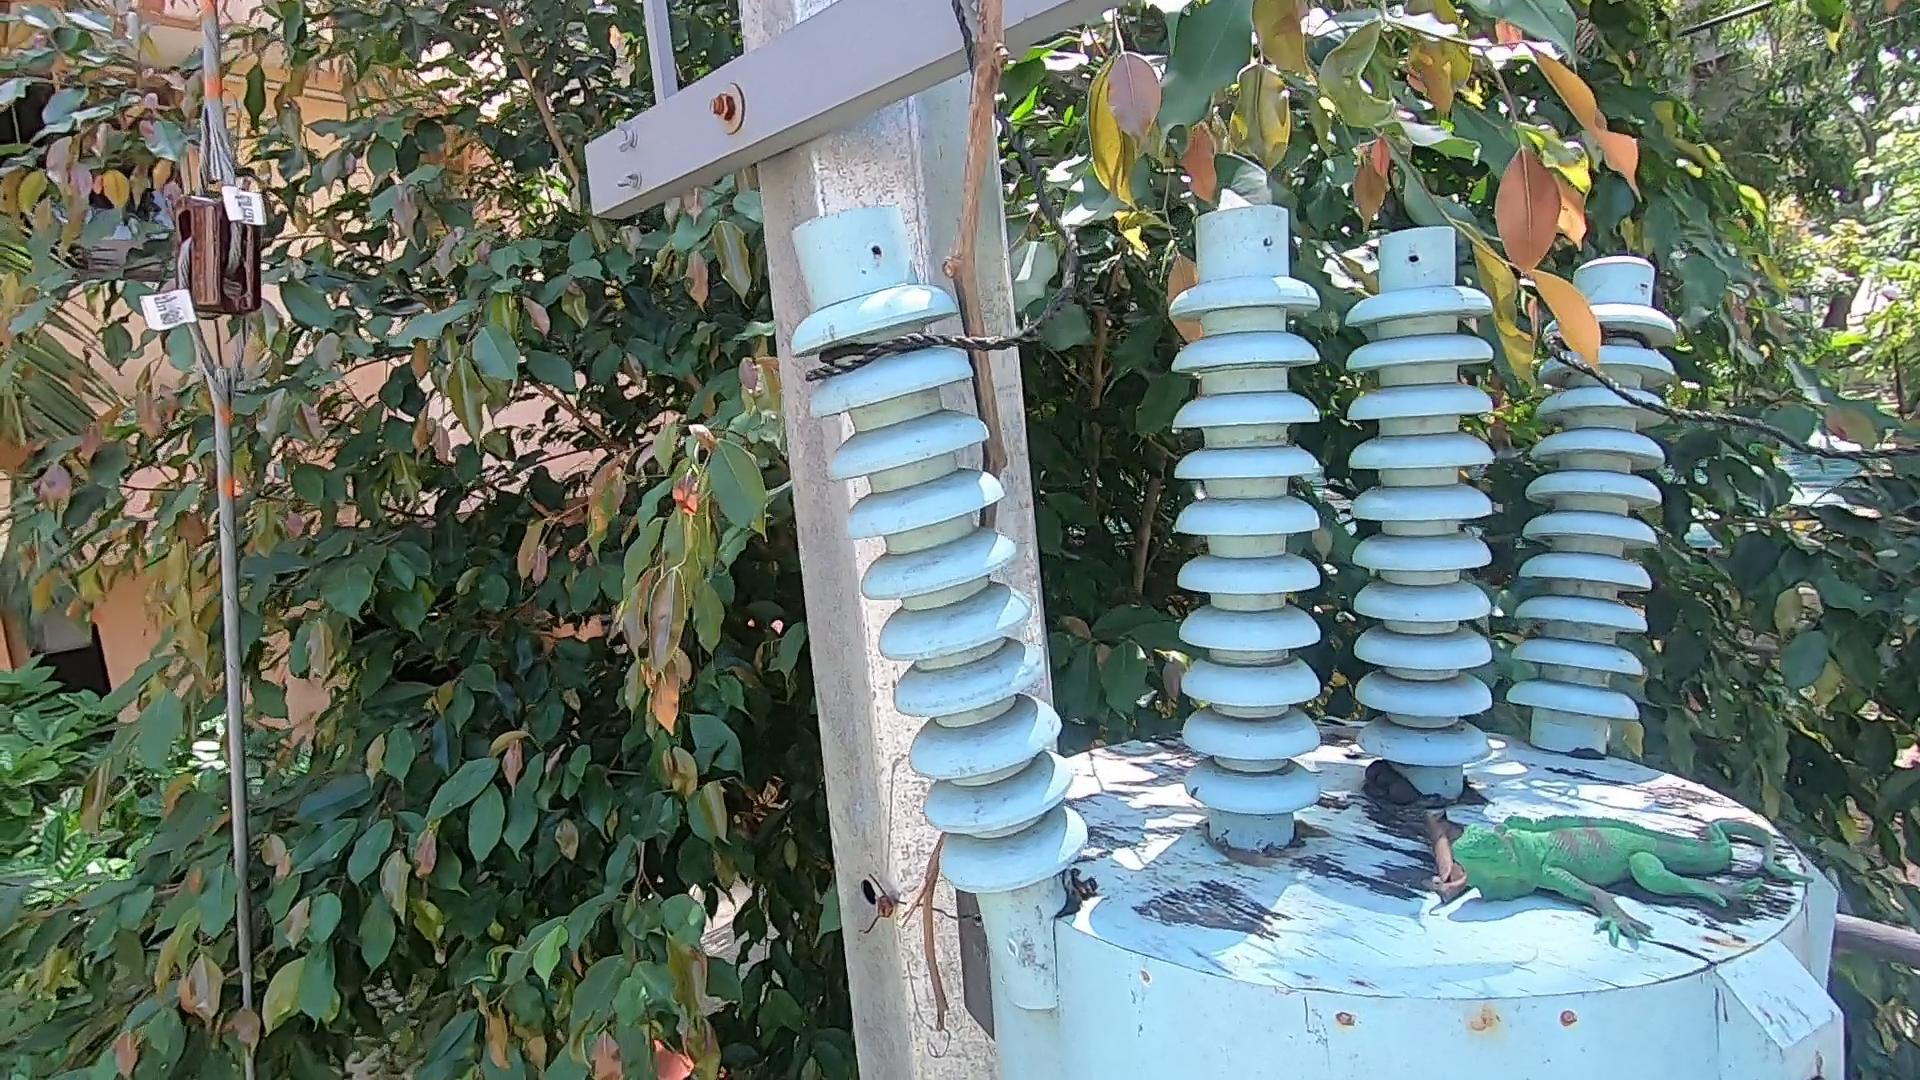branch with leaves: (1371, 167, 1648, 427)
leaf: (1415, 808, 1466, 927), (1367, 757, 1440, 808), (1054, 869, 1095, 918)
tree branch: (852, 5, 1026, 1048)
